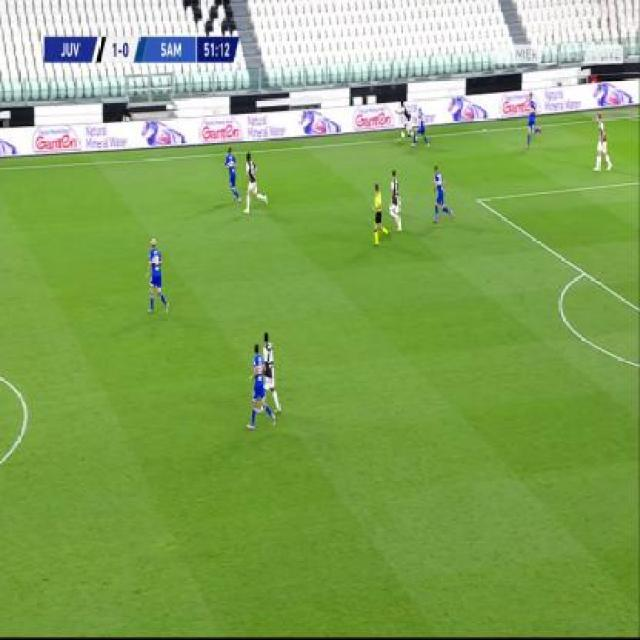ball: (400, 129, 405, 140)
player: (247, 338, 276, 434), (145, 236, 170, 316), (260, 325, 280, 424), (242, 151, 267, 214), (432, 164, 454, 226), (371, 183, 390, 246), (593, 113, 613, 172), (386, 169, 403, 232), (223, 146, 240, 203), (525, 92, 542, 149), (413, 107, 430, 149), (400, 99, 416, 141)
